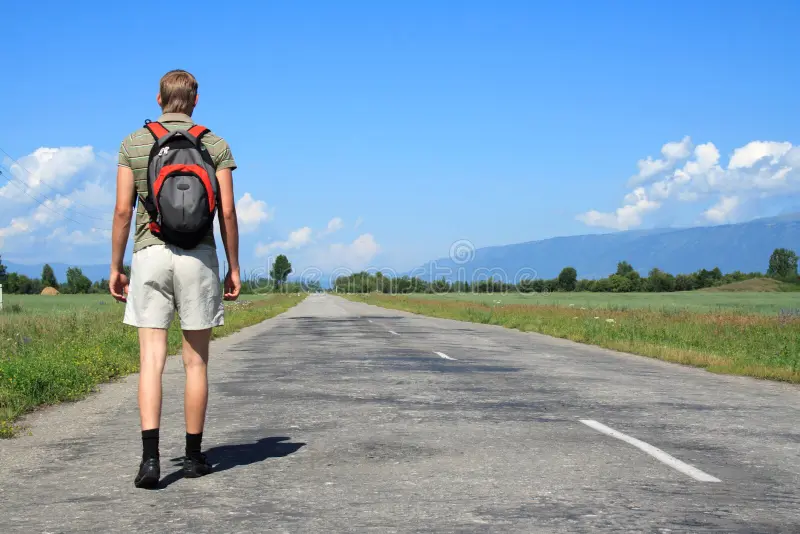person: (107, 68, 243, 487)
